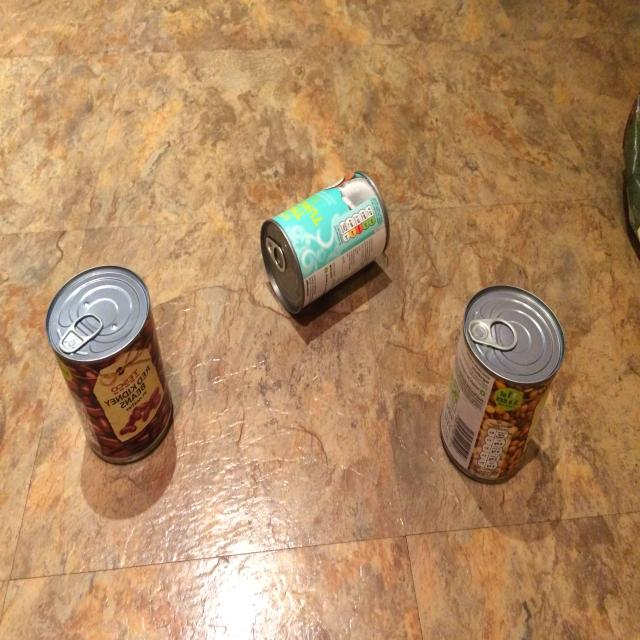Food Can: (46, 265, 172, 463), (440, 286, 566, 483), (260, 171, 389, 314)
Pop tab: (59, 313, 103, 354), (469, 318, 518, 351), (266, 237, 286, 272), (491, 324, 514, 347), (75, 317, 100, 336), (275, 248, 283, 268)
